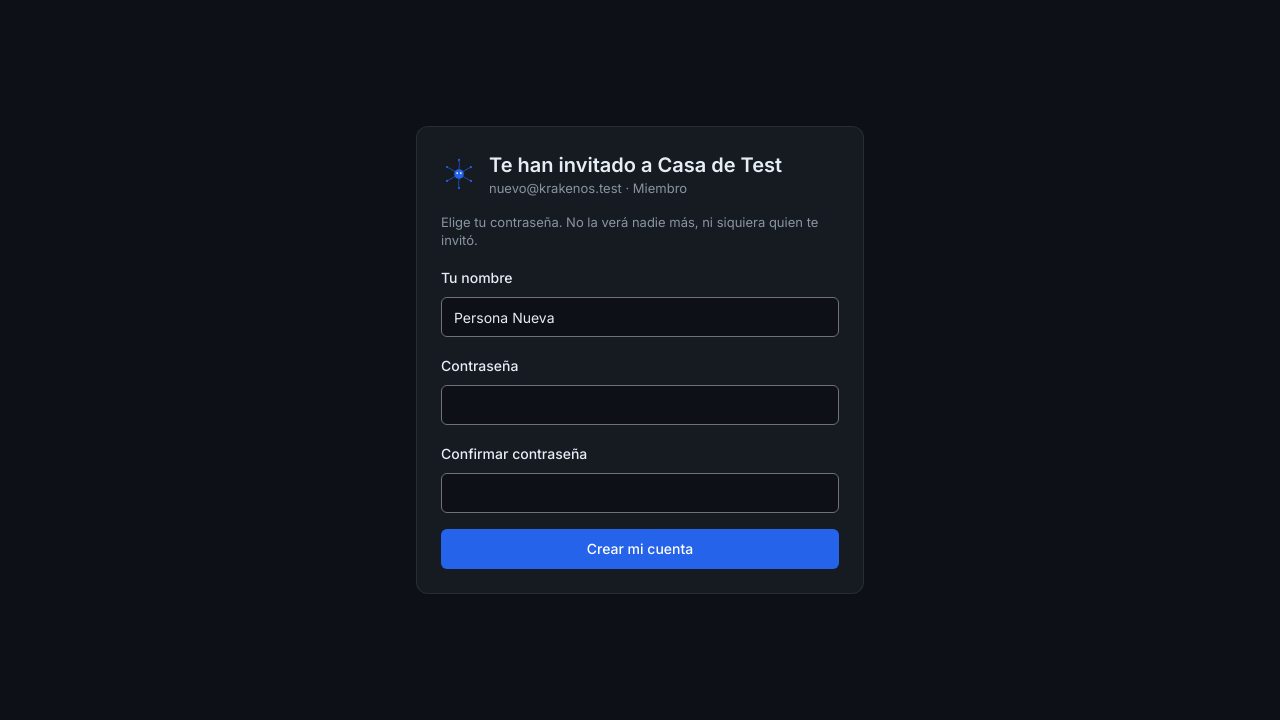
Test: InvitePage — aceptar una invitación (US-272) › no acepta si las dos contraseñas no coinciden
Check: the heading "Te han invitado a Casa de Test" is shown, box [489,151,782,179]
In the password field labelled "Contraseña": (640, 405) [441,385,839,425], type "la-mia-1234"
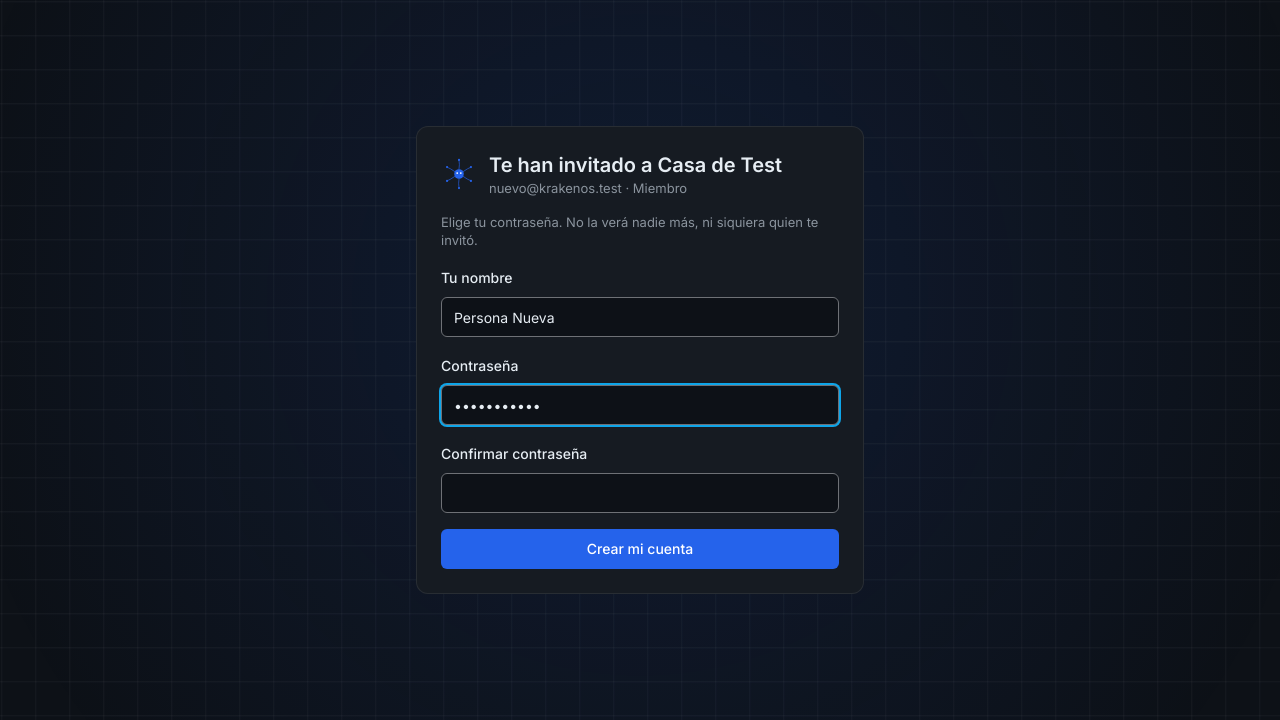
In the password field labelled "Confirmar contraseña": (640, 493) [441,473,839,513], type "otra-cosa-99"
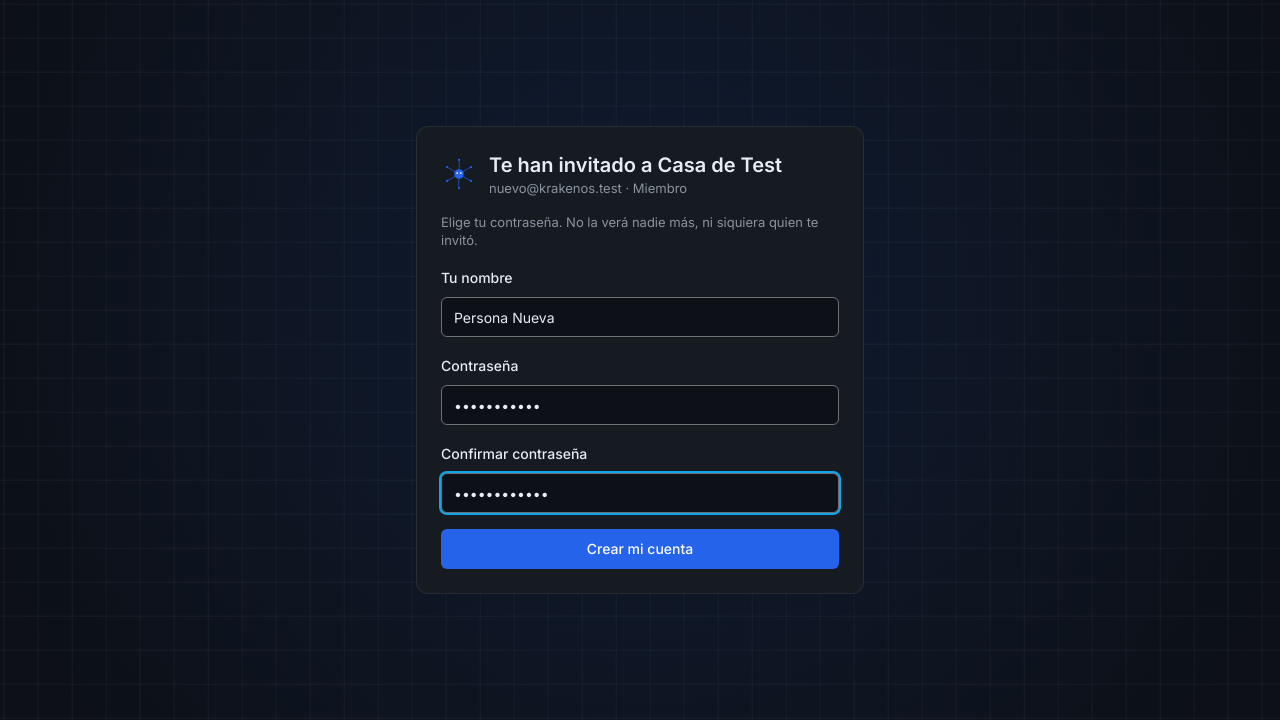
Click the button "Crear mi cuenta": (640, 549) [441,529,839,569]
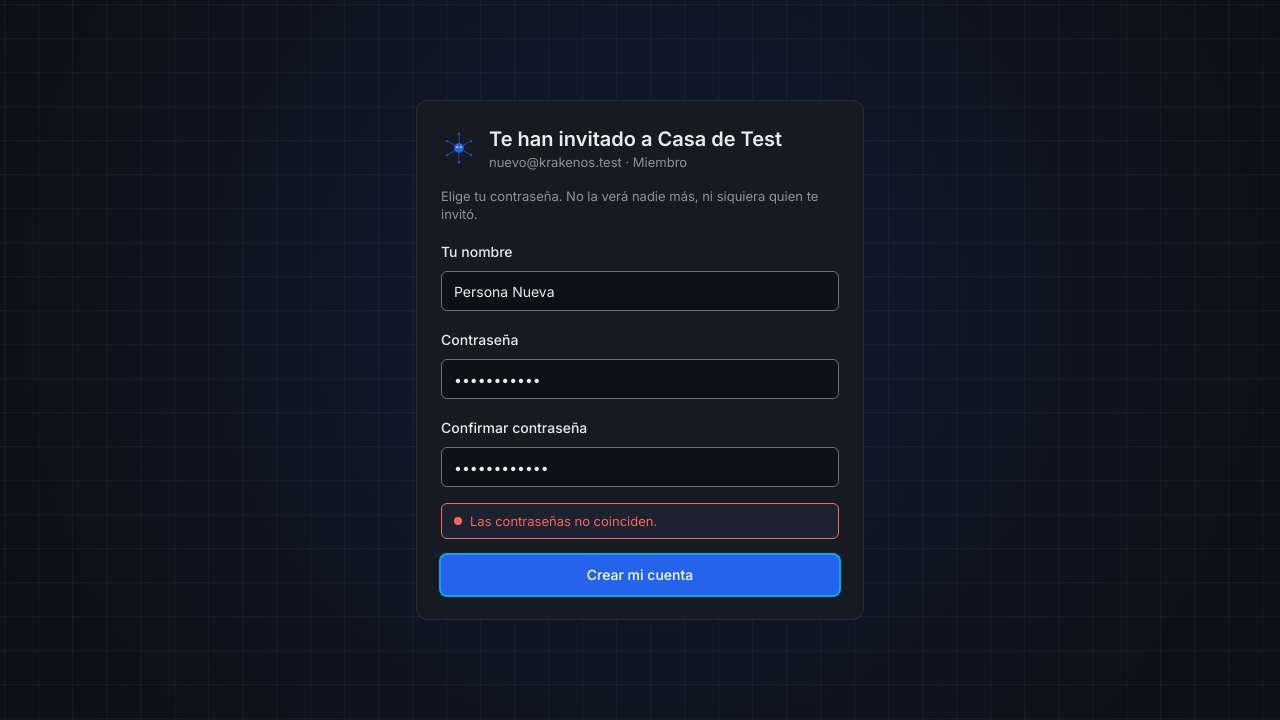
Check: the text "Las contraseñas no coinciden." is shown, box [441,503,839,539]
